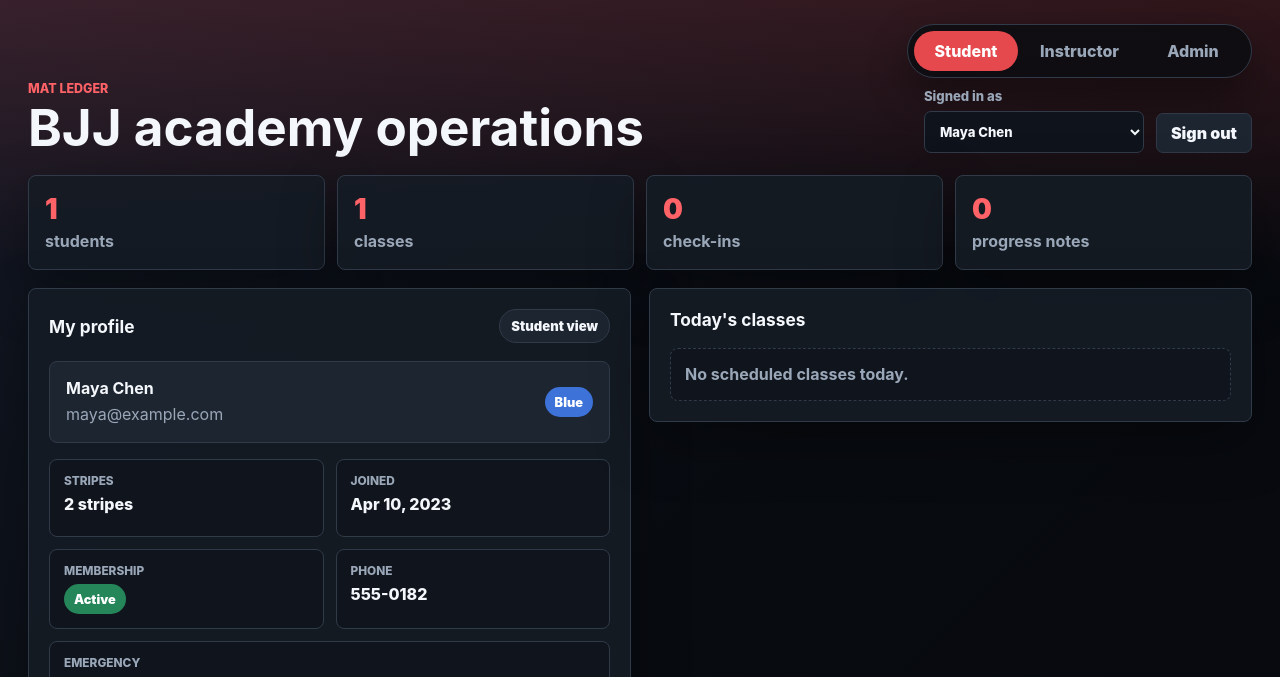
Test: renders saved instructor lesson plan for an upcoming class
This screenshot has width=1280, height=677.
Click the button "instructor": [1080, 51] box [1024,31,1135,71]
(page scrolled)
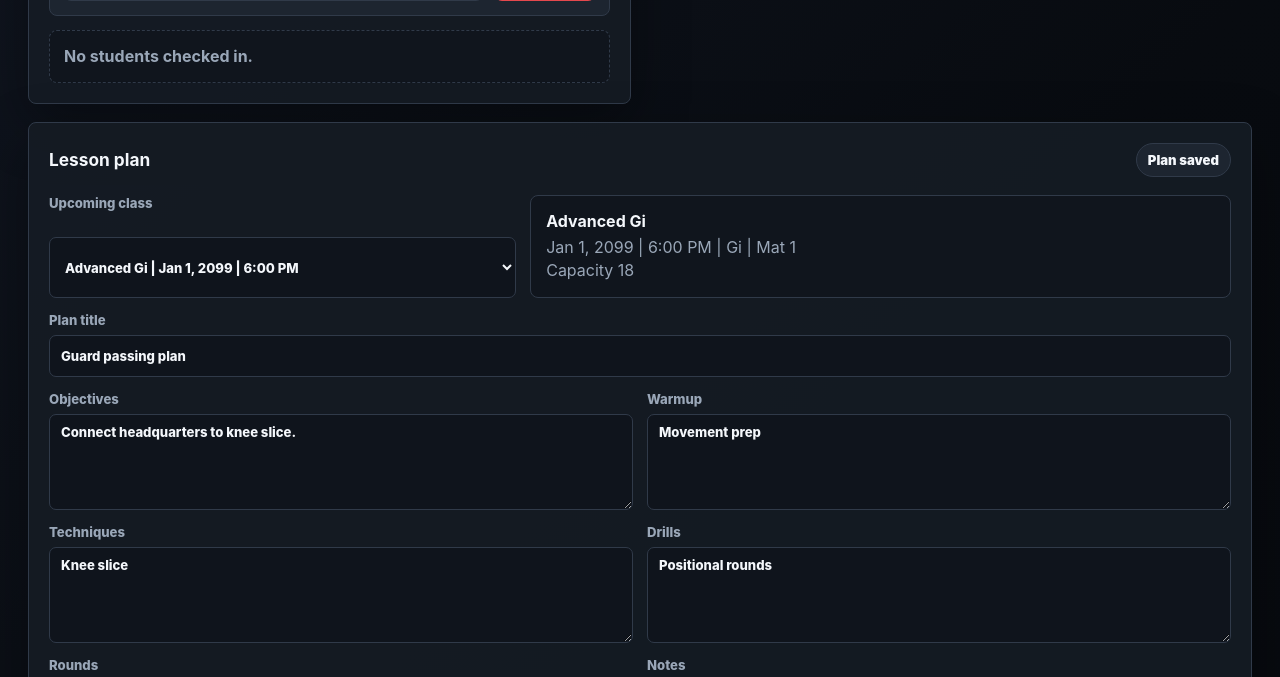
Expected: the heading "Lesson plan" is shown, [49,149,150,170]
Expected: the field showing "Guard passing plan" is shown, [49,335,1231,377]
